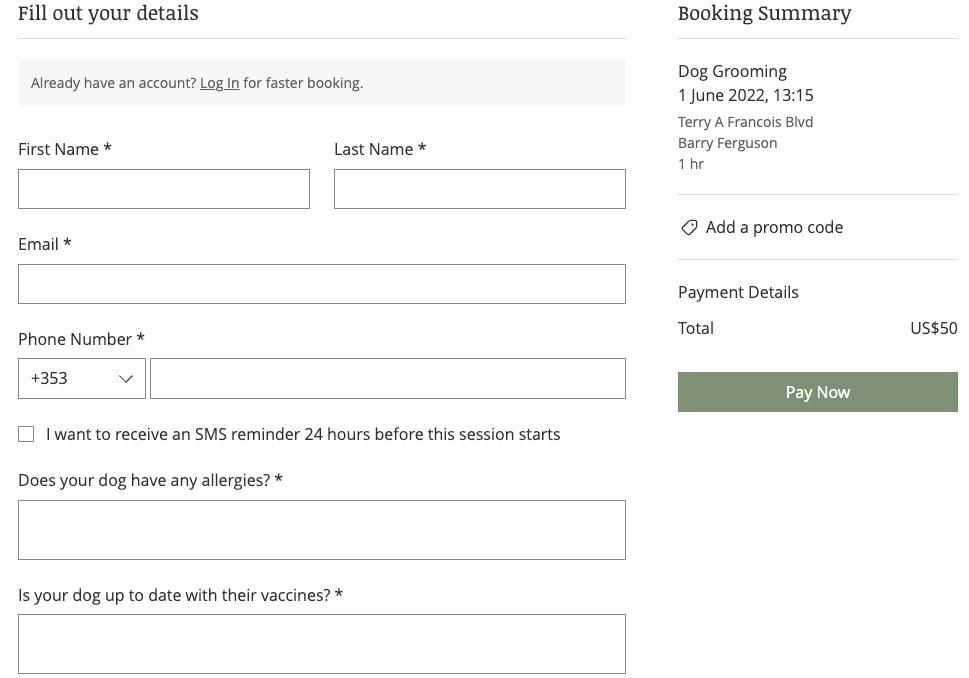button: (678, 372, 960, 416)
checkbox: (19, 425, 36, 445)
dropdown: (19, 359, 146, 400)
input: (19, 498, 627, 562), (20, 614, 628, 675), (18, 266, 625, 304), (151, 359, 625, 400), (18, 172, 312, 209), (335, 173, 627, 210)
label: (43, 425, 567, 445), (18, 583, 347, 607), (15, 472, 287, 494), (17, 330, 148, 352), (332, 142, 432, 159), (18, 141, 117, 158), (18, 236, 74, 257)
